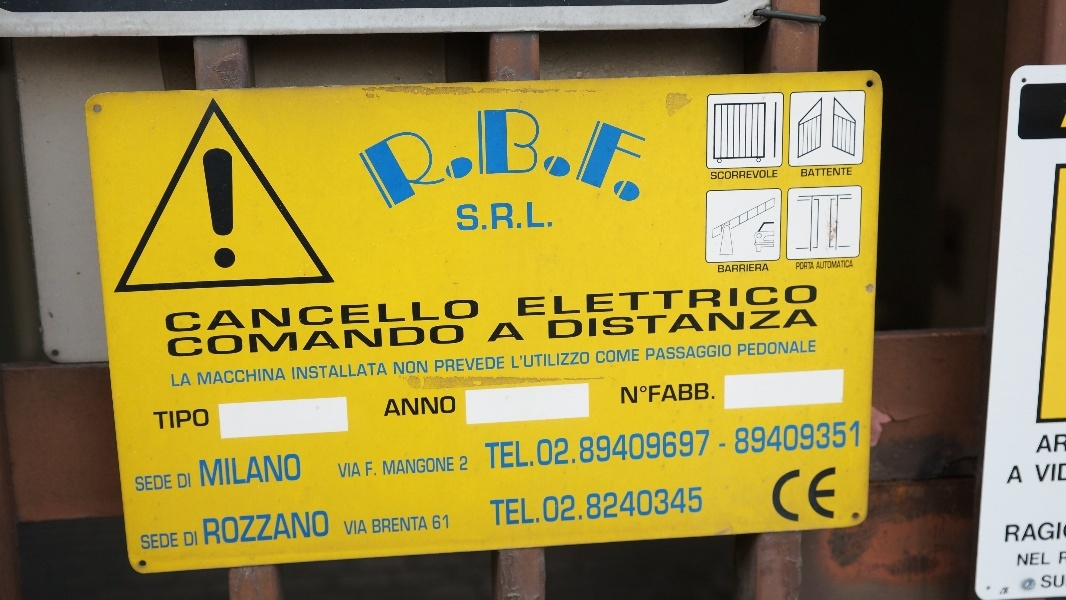text: (209, 148, 224, 270), (353, 107, 368, 210), (369, 107, 384, 210), (385, 107, 400, 210), (401, 107, 416, 210), (417, 107, 432, 210), (433, 107, 448, 210), (449, 107, 464, 210), (465, 107, 480, 210), (481, 107, 496, 210), (497, 107, 512, 210), (513, 107, 528, 210), (529, 107, 544, 210), (545, 107, 560, 210), (561, 107, 576, 210), (577, 107, 592, 210), (593, 107, 608, 210), (609, 107, 624, 210), (625, 107, 640, 210), (338, 107, 352, 210), (225, 148, 235, 270), (641, 107, 652, 210), (785, 466, 800, 526), (801, 466, 816, 526), (817, 466, 832, 526), (771, 466, 784, 526), (202, 148, 208, 270), (497, 430, 512, 469), (513, 430, 528, 469), (529, 430, 544, 469), (545, 430, 560, 469), (561, 430, 576, 469), (577, 430, 592, 469), (593, 430, 608, 469), (609, 430, 624, 469), (625, 430, 640, 469), (641, 430, 656, 469), (657, 430, 672, 469), (673, 430, 688, 469), (689, 430, 704, 469), (497, 488, 512, 526), (513, 488, 528, 526), (529, 488, 544, 526), (545, 488, 560, 526), (561, 488, 576, 526), (577, 488, 592, 526), (593, 488, 608, 526), (609, 488, 624, 526), (625, 488, 640, 526), (641, 488, 656, 526), (657, 488, 672, 526), (673, 488, 688, 526), (177, 298, 192, 334), (193, 298, 208, 334), (209, 298, 224, 334), (225, 298, 240, 334), (241, 298, 256, 334), (257, 298, 272, 334), (273, 298, 288, 334), (289, 298, 304, 334), (305, 298, 320, 334), (321, 298, 336, 334), (337, 298, 352, 334), (353, 298, 368, 334), (369, 298, 384, 334), (385, 298, 400, 334), (401, 298, 416, 334), (417, 298, 432, 334), (433, 298, 448, 334), (449, 298, 464, 334), (209, 510, 224, 545), (225, 510, 240, 545), (241, 510, 256, 545), (257, 510, 272, 545), (273, 510, 288, 545), (289, 510, 304, 545), (305, 510, 320, 545), (465, 298, 479, 334), (209, 454, 224, 487), (225, 454, 240, 487), (241, 454, 256, 487), (257, 454, 272, 487), (273, 454, 288, 487), (737, 421, 752, 454), (753, 421, 768, 454), (769, 421, 784, 454), (785, 421, 800, 454), (801, 421, 816, 454), (817, 421, 832, 454), (833, 421, 848, 454), (689, 488, 702, 526), (177, 325, 192, 357), (193, 325, 208, 357), (209, 325, 224, 357), (225, 325, 240, 357), (241, 325, 256, 357), (257, 325, 272, 357), (273, 325, 288, 357), (289, 325, 304, 357), (305, 325, 320, 357), (321, 325, 336, 357), (337, 325, 352, 357), (353, 325, 368, 357), (369, 325, 384, 357), (385, 325, 400, 357), (401, 325, 416, 357), (417, 325, 432, 357), (433, 325, 448, 357), (449, 325, 464, 357), (561, 309, 576, 341), (577, 309, 592, 341), (593, 309, 608, 341), (609, 309, 624, 341), (625, 309, 640, 341), (641, 309, 656, 341), (657, 309, 672, 341), (673, 309, 688, 341), (689, 309, 704, 341), (705, 309, 720, 341), (721, 309, 736, 341), (737, 309, 752, 341), (753, 309, 768, 341), (769, 309, 784, 341), (785, 309, 800, 341), (801, 309, 816, 341), (484, 430, 496, 469), (529, 286, 544, 317), (545, 286, 560, 317), (561, 286, 576, 317), (577, 286, 592, 317), (593, 286, 608, 317), (609, 286, 624, 317), (625, 286, 640, 317), (641, 286, 656, 317), (657, 286, 672, 317), (673, 286, 688, 317), (689, 286, 704, 317), (705, 286, 720, 317), (721, 286, 736, 317), (737, 286, 752, 317), (753, 286, 768, 317), (769, 286, 784, 317), (785, 286, 800, 317), (801, 286, 816, 317), (465, 201, 480, 231), (481, 201, 496, 231), (497, 201, 512, 231), (513, 201, 528, 231), (529, 201, 544, 231), (289, 454, 302, 487), (165, 298, 176, 334), (549, 309, 560, 341), (625, 382, 640, 404), (641, 382, 656, 404), (657, 382, 672, 404), (673, 382, 688, 404), (689, 382, 704, 404), (849, 421, 859, 454), (193, 410, 209, 430), (401, 397, 416, 417), (417, 397, 432, 417), (433, 397, 448, 417), (161, 410, 176, 430), (177, 410, 192, 430), (1009, 523, 1024, 543), (1025, 523, 1040, 543), (1041, 523, 1056, 543), (833, 466, 838, 526), (199, 454, 208, 487), (519, 286, 528, 317), (305, 363, 320, 381), (321, 363, 336, 381), (337, 363, 352, 381), (353, 363, 368, 381), (369, 363, 384, 381), (209, 368, 224, 386), (225, 368, 240, 386), (241, 368, 256, 386), (257, 368, 272, 386), (385, 457, 400, 475), (401, 457, 416, 475), (417, 457, 432, 475), (433, 457, 448, 475), (499, 323, 512, 343), (168, 325, 176, 357), (657, 344, 672, 361), (673, 344, 688, 361), (689, 344, 704, 361), (705, 344, 720, 361), (145, 474, 160, 491), (385, 517, 400, 534), (401, 517, 416, 534), (145, 533, 160, 550), (161, 533, 176, 550), (1041, 464, 1056, 481), (273, 368, 287, 386), (321, 510, 328, 545), (545, 201, 553, 231), (513, 323, 525, 343), (513, 352, 528, 368), (529, 352, 544, 368), (545, 352, 560, 368), (561, 352, 576, 368), (490, 488, 496, 526), (1044, 435, 1056, 454), (753, 341, 768, 356), (769, 341, 784, 356), (785, 341, 800, 356), (801, 341, 816, 356), (449, 358, 464, 373), (465, 358, 480, 373), (481, 358, 496, 373), (177, 473, 192, 488), (433, 515, 448, 530), (353, 520, 367, 536), (389, 397, 400, 417), (705, 382, 715, 404), (292, 363, 304, 381), (457, 201, 464, 231), (609, 349, 624, 363), (401, 361, 416, 375), (1025, 553, 1040, 567), (577, 352, 590, 368), (372, 517, 384, 534), (625, 349, 639, 363), (177, 373, 191, 387), (1042, 575, 1056, 589), (739, 341, 752, 356), (435, 358, 448, 373), (339, 463, 352, 478), (721, 344, 732, 361), (161, 474, 172, 491), (198, 368, 208, 386), (1057, 523, 1066, 543), (203, 510, 208, 545), (1057, 435, 1066, 454), (1015, 466, 1024, 485), (417, 517, 427, 534), (596, 349, 608, 363), (705, 430, 709, 469), (417, 361, 428, 375), (647, 344, 656, 361), (135, 474, 144, 491), (1057, 464, 1066, 481), (753, 264, 769, 273), (449, 397, 456, 417), (153, 410, 160, 430), (1041, 553, 1051, 567), (817, 168, 832, 177), (833, 168, 848, 177), (721, 171, 736, 180), (737, 171, 752, 180), (753, 171, 768, 180), (721, 264, 736, 273), (737, 264, 752, 273), (833, 260, 848, 269), (344, 520, 352, 536), (184, 531, 192, 547), (802, 168, 816, 177), (818, 260, 832, 269), (497, 358, 505, 373), (353, 463, 361, 478), (801, 262, 815, 270), (369, 462, 377, 476), (1057, 575, 1065, 589), (449, 457, 454, 475), (394, 361, 400, 375), (711, 171, 720, 180), (769, 171, 778, 180), (193, 531, 198, 547), (1019, 553, 1024, 567), (1036, 464, 1040, 481), (460, 456, 464, 471), (1061, 552, 1066, 564), (172, 373, 176, 387), (385, 363, 388, 381), (141, 533, 144, 550), (465, 456, 468, 471), (622, 382, 624, 404), (849, 260, 853, 269), (817, 309, 818, 341), (817, 286, 818, 317), (1003, 588, 1008, 594), (366, 462, 368, 476), (849, 168, 852, 177), (797, 262, 800, 270), (1007, 523, 1008, 543), (718, 264, 720, 273), (383, 457, 384, 475), (177, 533, 178, 550), (721, 443, 725, 447)
